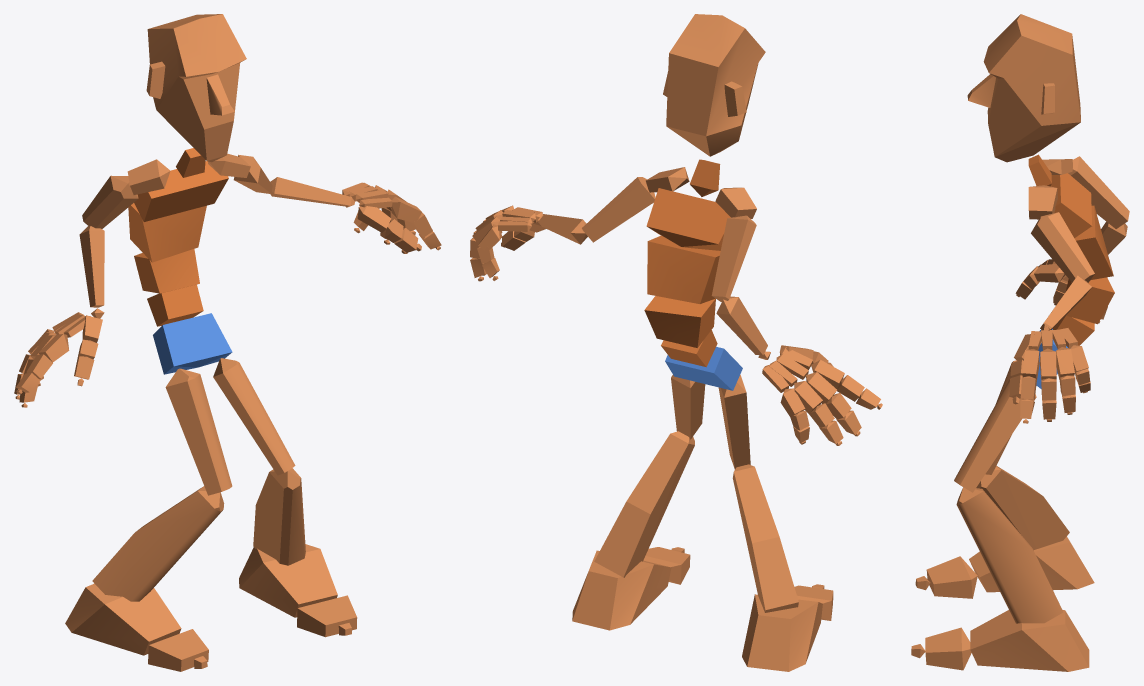
Rendered from prueba132.obj.
The picture shows the model from 3 angles, left to right: view 1: azimuth 30°, elevation 25°; view 2: azimuth 150°, elevation 25°; view 3: azimuth 270°, elevation 25°; orthographic projection. The views are drawn at different scales.
Visible parts, largest first — view 1: BOPED_Head, BOPED_R_leg, BOPED_R_foot, BOPED_R_foot01, BOPED_L_leg, BOPED_R_legup, Bone01, BOPED_L_legup, Bone04, Bone05, Bone03, BOPED_R_foot_toe01 (+9 smaller); view 2: BOPED_Head, BOPED_L_leg, BOPED_R_leg, BOPED_R_foot01, BOPED_R_foot, Bone04, Bone05, Bone03, BOPED_R_arm_upper, BOPED_L_arm_upper, BOPED_R_legup, Bone01 (+9 smaller); view 3: BOPED_Head, BOPED_L_leg, BOPED_R_foot01, BOPED_R_leg, BOPED_L_legup, BOPED_R_foot, BOPED_L_arm_upper, Bone05, BOPED_R_arm_upper, BOPED_R_foot_toe01, BOPED_R_foot_toe04, Bone04 (+14 smaller).
Boxes of the visible parts, left/top/right/bottom form: BOPED_Head: left=146, top=14, right=246, bottom=162; BOPED_R_leg: left=92, top=486, right=224, bottom=601; BOPED_R_foot: left=65, top=583, right=181, bottom=655; BOPED_R_foot01: left=239, top=544, right=337, bottom=617; BOPED_L_leg: left=253, top=468, right=305, bottom=565; BOPED_R_legup: left=165, top=368, right=232, bottom=495; Bone01: left=153, top=313, right=232, bottom=374; BOPED_L_legup: left=213, top=358, right=295, bottom=475; Bone04: left=128, top=203, right=206, bottom=262; Bone05: left=134, top=161, right=228, bottom=221; Bone03: left=134, top=249, right=199, bottom=293; BOPED_R_foot_toe01: left=148, top=629, right=208, bottom=671; BOPED_Head: left=663, top=14, right=765, bottom=156; BOPED_L_leg: left=594, top=431, right=694, bottom=577; BOPED_R_leg: left=732, top=464, right=798, bottom=612; BOPED_R_foot01: left=572, top=550, right=671, bottom=630; BOPED_R_foot: left=742, top=594, right=822, bottom=671; Bone04: left=647, top=236, right=720, bottom=303; Bone05: left=646, top=188, right=730, bottom=250; Bone03: left=644, top=296, right=715, bottom=347; BOPED_R_arm_upper: left=711, top=215, right=756, bottom=301; BOPED_L_arm_upper: left=582, top=177, right=655, bottom=242; BOPED_R_legup: left=718, top=374, right=750, bottom=469; Bone01: left=665, top=346, right=742, bottom=390; BOPED_Head: left=967, top=14, right=1080, bottom=162; BOPED_L_leg: left=956, top=487, right=1063, bottom=623; BOPED_R_foot01: left=970, top=610, right=1089, bottom=671; BOPED_R_leg: left=976, top=465, right=1069, bottom=549; BOPED_L_legup: left=954, top=379, right=1036, bottom=492; BOPED_R_foot: left=969, top=536, right=1094, bottom=592; BOPED_L_arm_upper: left=1031, top=212, right=1094, bottom=282; Bone05: left=1050, top=173, right=1092, bottom=237; BOPED_R_arm_upper: left=1068, top=156, right=1129, bottom=228; BOPED_R_foot_toe01: left=926, top=556, right=977, bottom=598; BOPED_R_foot_toe04: left=925, top=627, right=971, bottom=670; Bone04: left=1071, top=205, right=1113, bottom=282.
Size of the model in its own units: 130 by 182 by 60.57.
